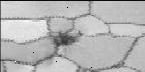good_void: (48, 30, 84, 49)
